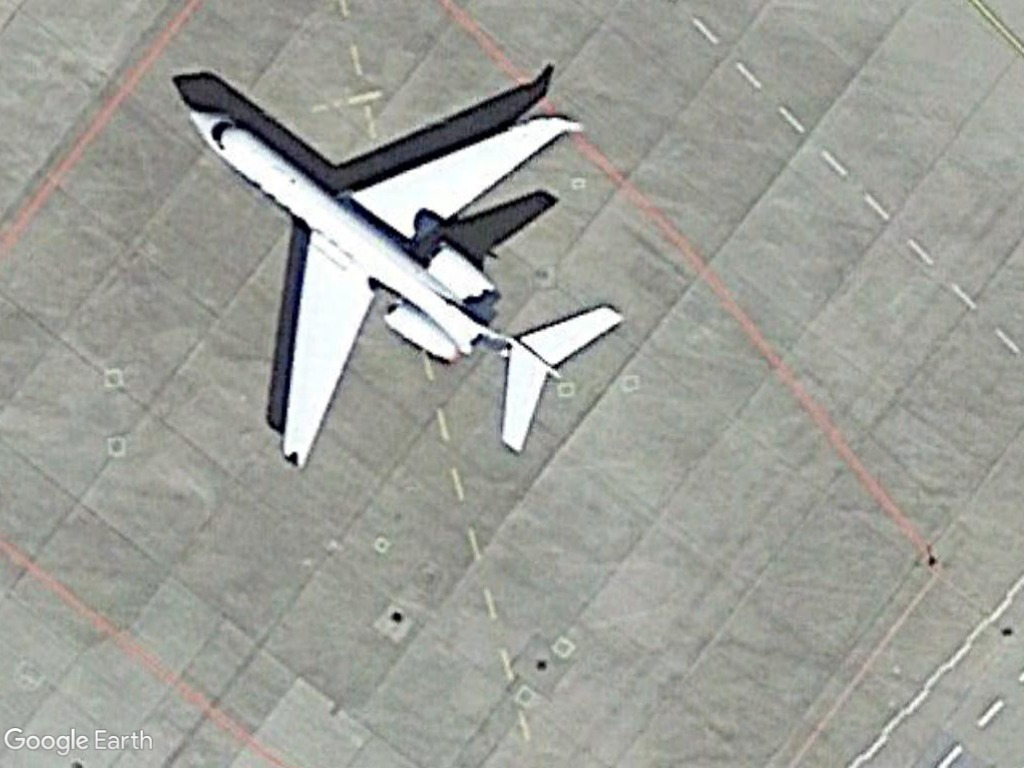chartered: (183, 103, 629, 473)
